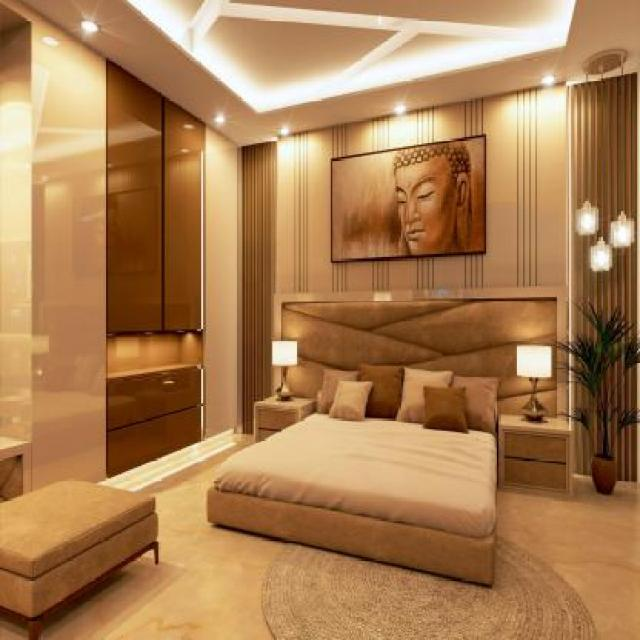Floor: (39, 432, 288, 640), (496, 474, 640, 640)
